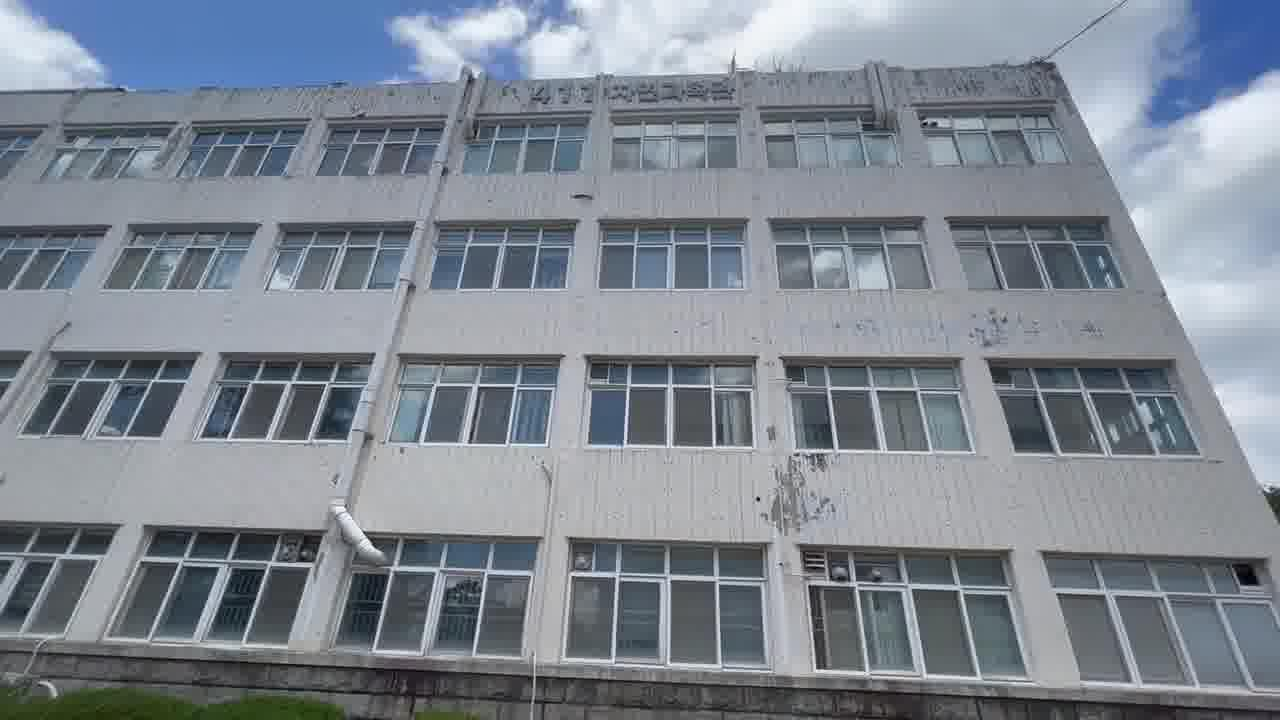building: (0, 63, 1280, 695)
